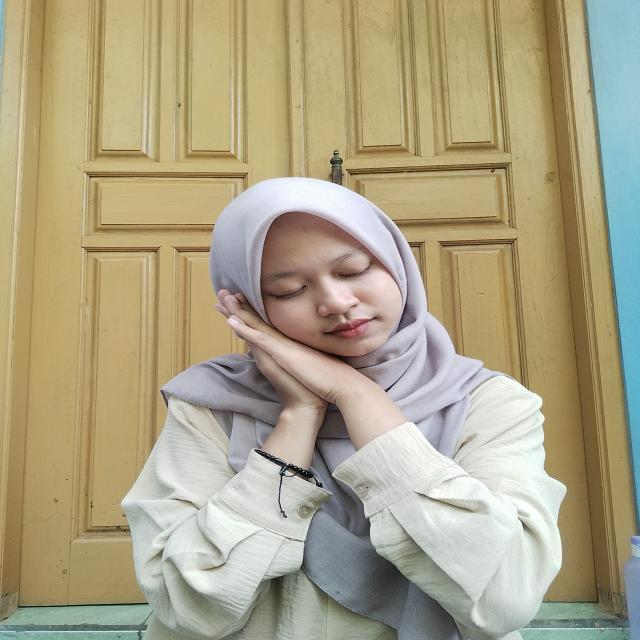tidur: (207, 281, 417, 482)
